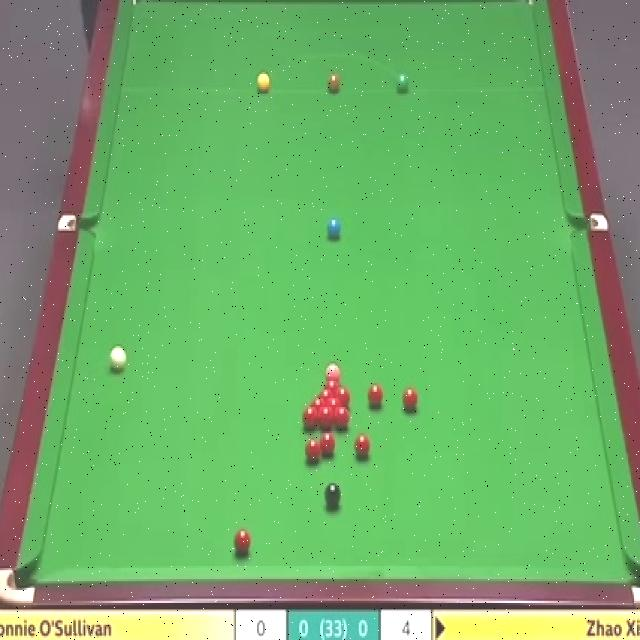black-ball: (324, 481, 342, 508)
blue-ball: (325, 216, 340, 240)
brown-ball: (326, 71, 341, 94)
green-ball: (395, 70, 410, 93)
red-ball: (402, 384, 420, 414), (233, 528, 253, 553), (334, 402, 351, 429), (367, 383, 384, 409), (301, 404, 318, 430), (316, 404, 334, 428), (306, 440, 322, 466), (354, 434, 370, 459), (319, 432, 335, 457), (334, 387, 350, 409), (324, 378, 340, 394), (311, 395, 324, 412)
white-ball: (109, 344, 126, 374)
yellow-ball: (254, 72, 271, 94)
